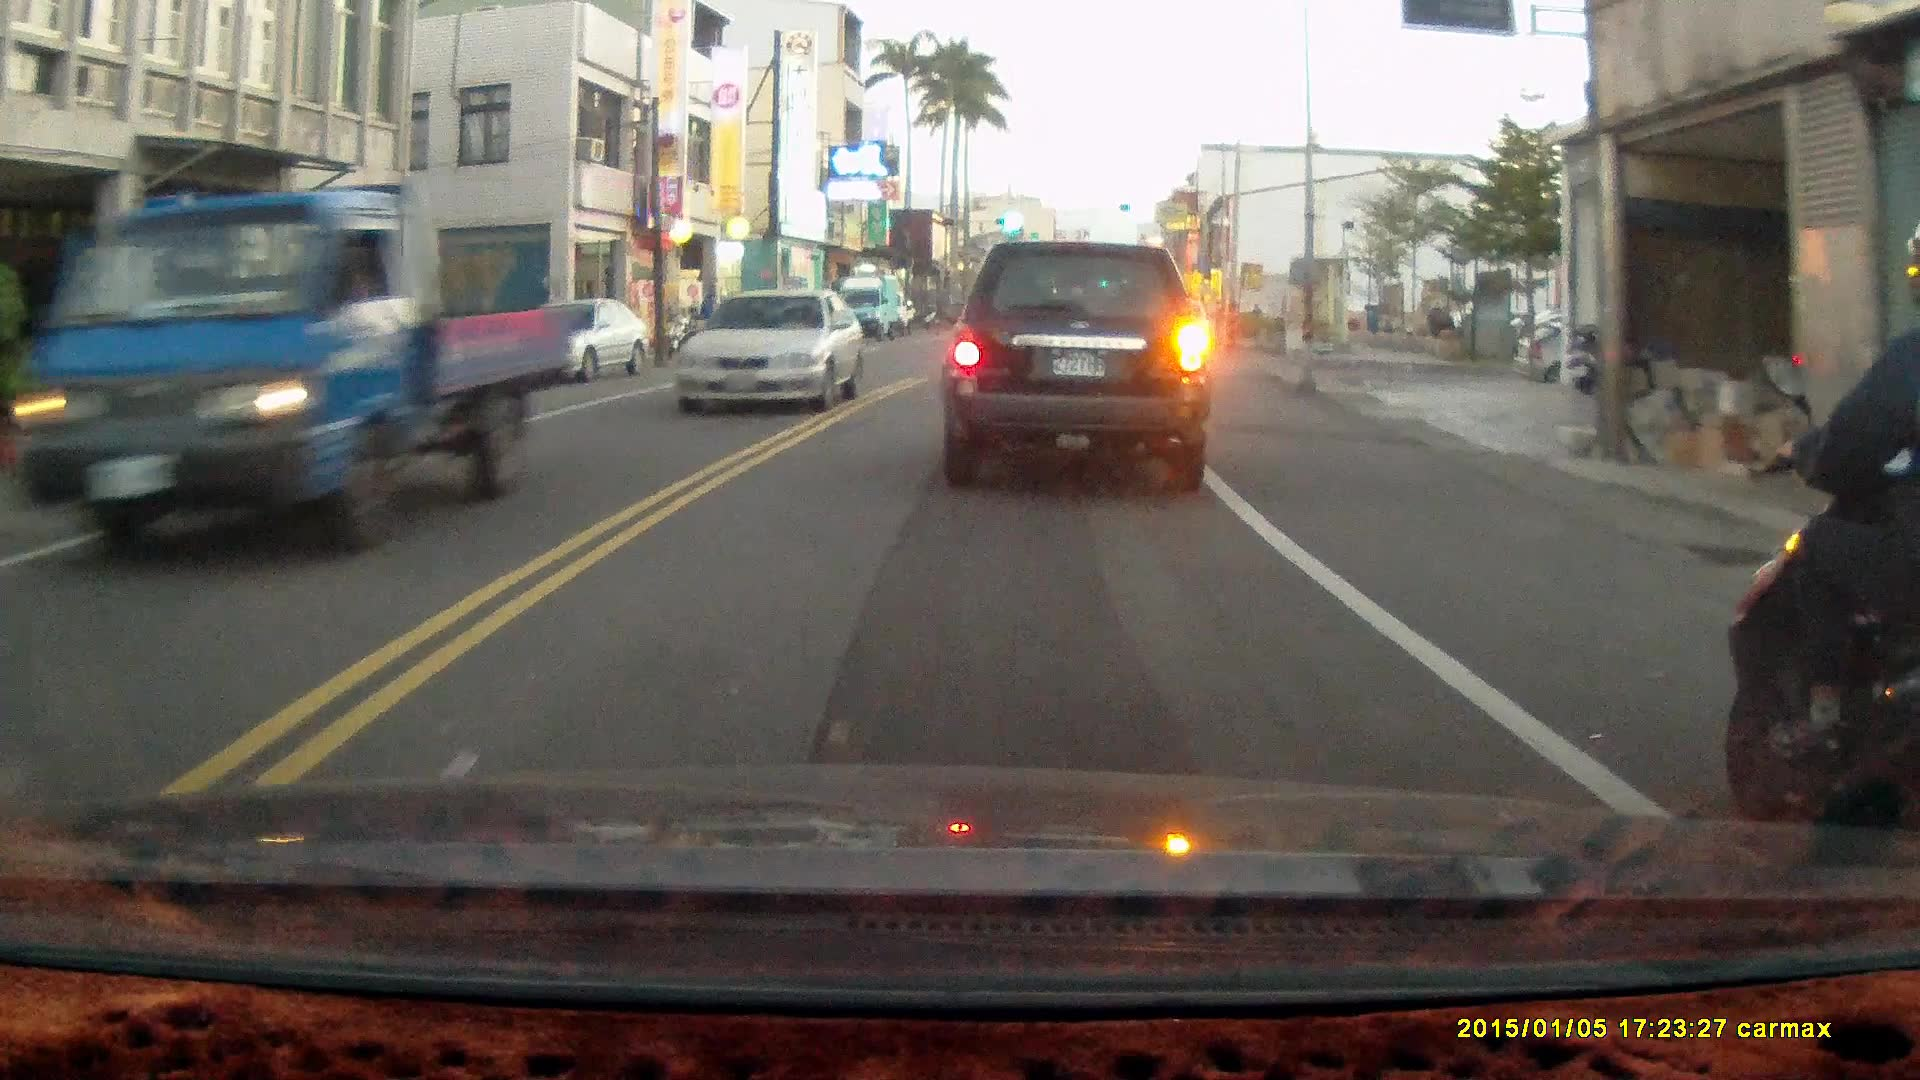pedestrian: (697, 287, 719, 344)
rider: (1727, 228, 1920, 906)
vehicle: (17, 181, 547, 558), (937, 242, 1210, 492), (675, 288, 867, 418), (1509, 315, 1701, 395), (498, 296, 654, 387), (828, 270, 914, 341)
